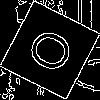O: (25, 25, 85, 81)
